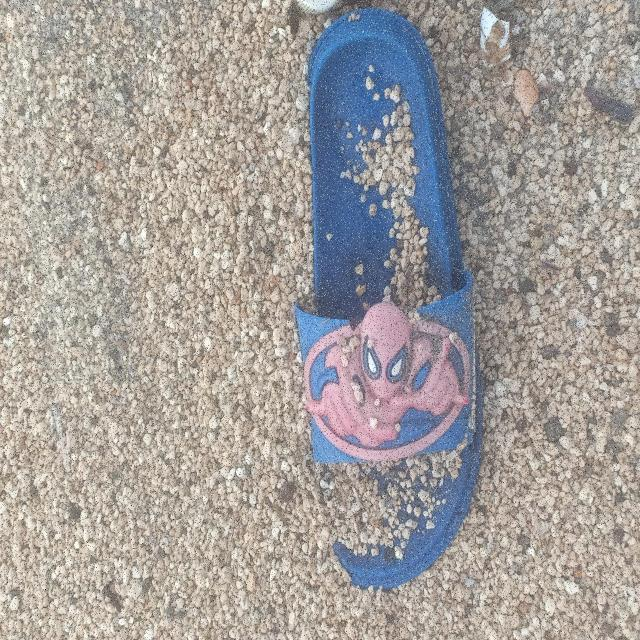rubber_waste: (293, 6, 486, 593)
